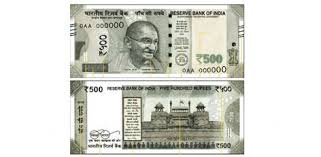fiveHundred: (78, 17, 231, 70)
